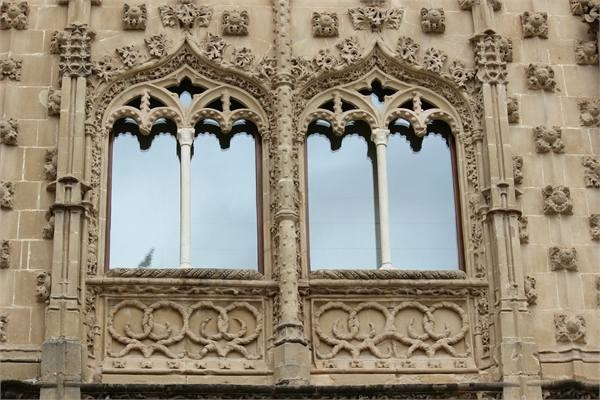arco-conopial: (280, 33, 487, 119), (79, 30, 285, 116)
